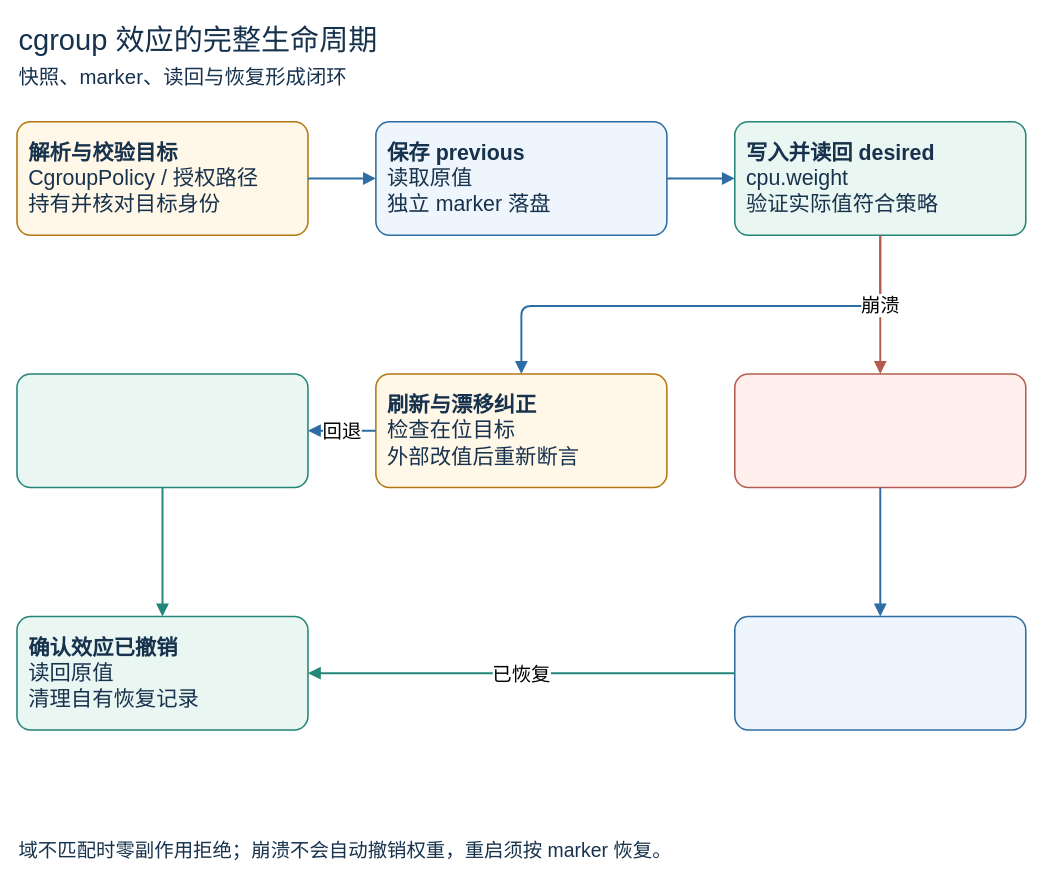
Image size: 1044x891. Some labels were removed from this diagram. The shapes that lost their labels are listed below. From the top down, each one's centre as x and y in pixels, then its label:
point 162,430: 显式回退与 TTL 恢复 previous 读回后清 marker
point 880,430: 执行服务被杀 内核权重仍保留 marker 不丢失
point 880,672: 同实例重启恢复 核对目标与归属 恢复原值或明确冲突
